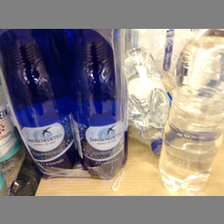water: (1, 29, 79, 177), (159, 29, 223, 193), (59, 30, 125, 179)
